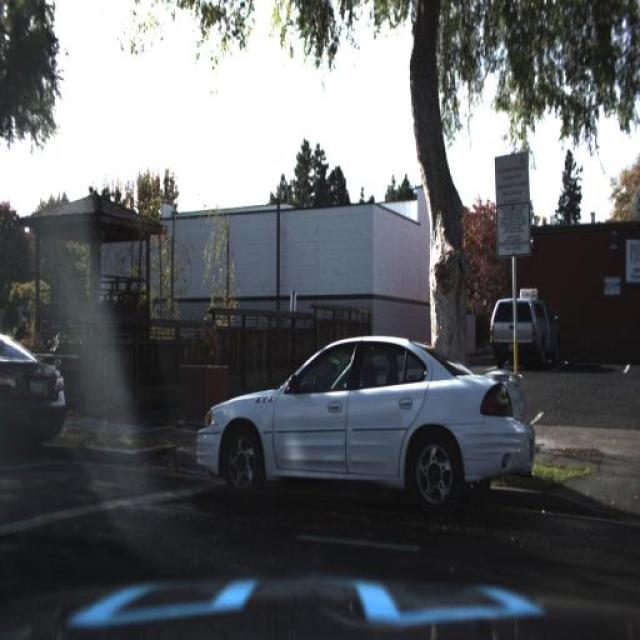car: (185, 322, 540, 526), (0, 312, 75, 453), (489, 297, 557, 365)
